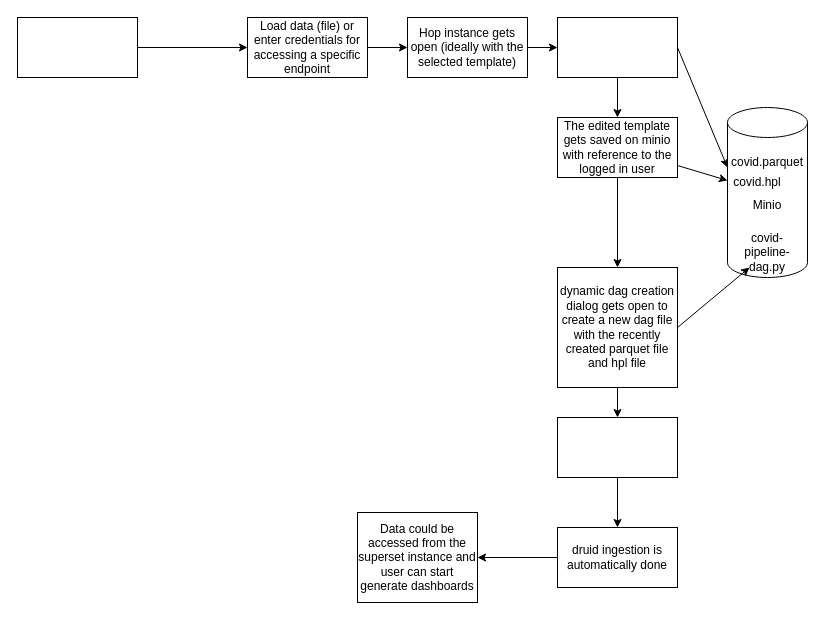
Image size: 825x620. Some labels were removed from this diagram. The shapes that lost their labels are listed below. From the top down, each one's centre as x and y in pixels, then its label:
At (x=77, y=47): "Select template for loading data".
At (x=617, y=47): "User edit and fillup the mandatory fields and runs the pipeline".
At (x=617, y=447): "process chain runs automatically based on the created dag".
